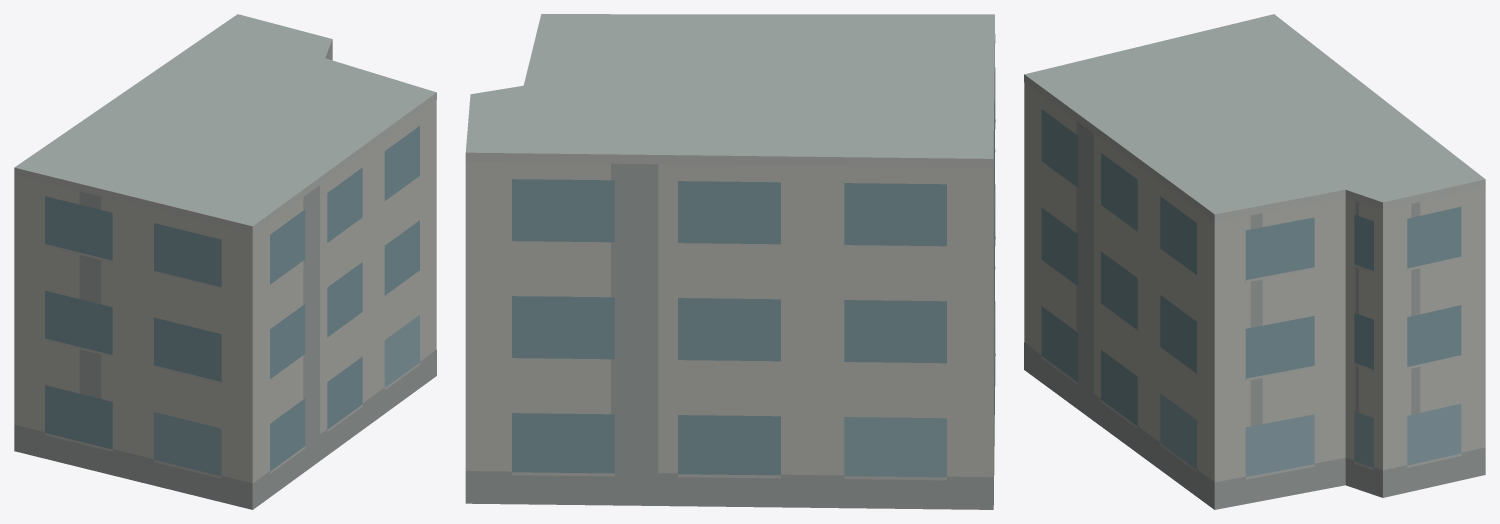
File: residential-945bd458-43fb-4609-b075-e2dddb9d9686.glb
3 renders of one model, left to right at view 1: azimuth 30°, elevation 25°; view 2: azimuth 150°, elevation 25°; view 3: azimuth 270°, elevation 25°, orthographic. The views are drawn at different scales.
Parts seen in each view (by area): view 1: residential-945bd458-43fb-4609-b075-e2dddb9d9686.tmp; view 2: residential-945bd458-43fb-4609-b075-e2dddb9d9686.tmp; view 3: residential-945bd458-43fb-4609-b075-e2dddb9d9686.tmp.
Part boxes in pixels (x1,y1,x2,y2): residential-945bd458-43fb-4609-b075-e2dddb9d9686.tmp: [14, 14, 436, 509]; residential-945bd458-43fb-4609-b075-e2dddb9d9686.tmp: [465, 14, 995, 509]; residential-945bd458-43fb-4609-b075-e2dddb9d9686.tmp: [1024, 14, 1485, 509].
Size of the model in its own units: 13.31 by 9.15 by 12.96.
